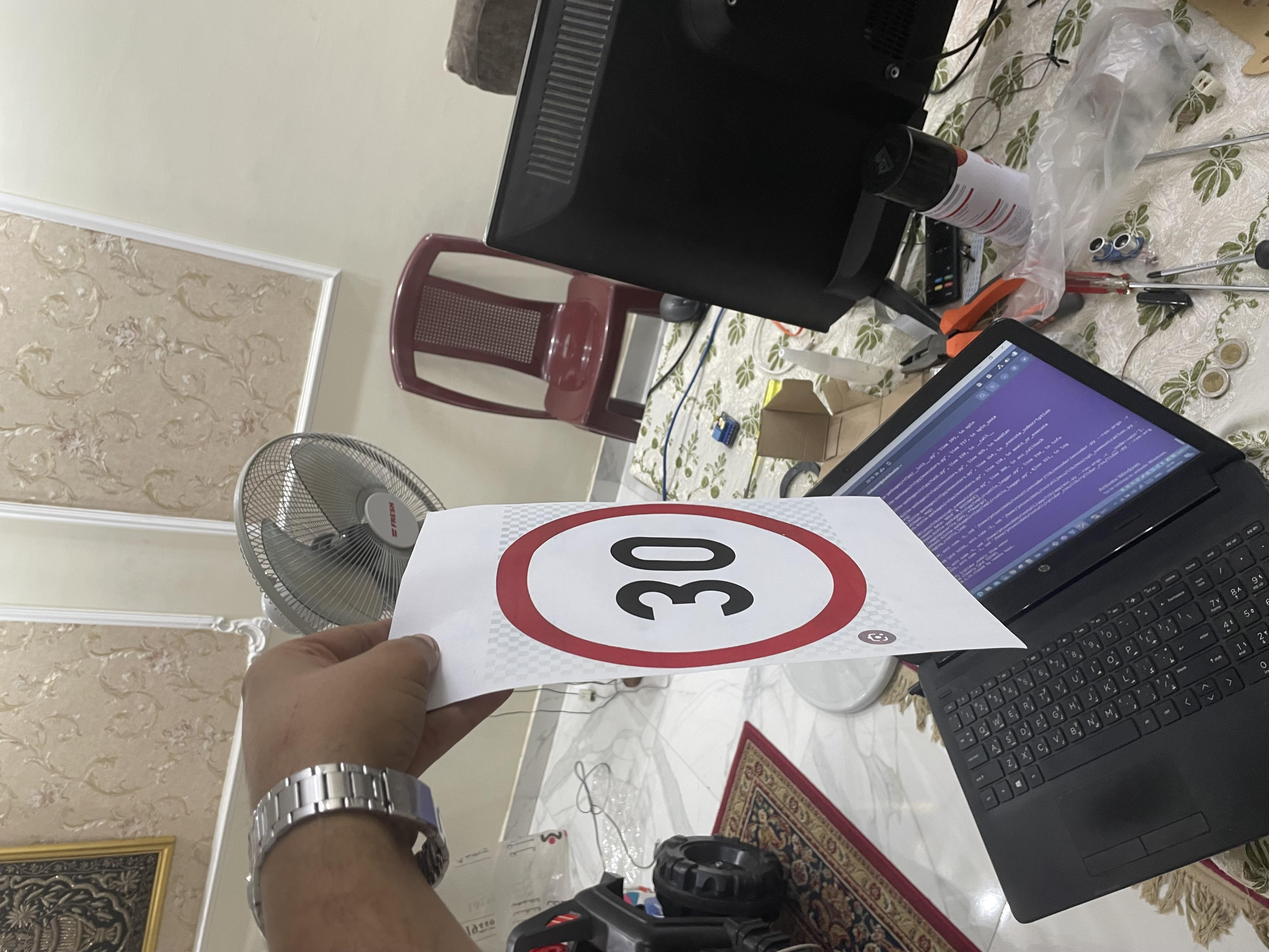30-speed: (395, 362, 610, 649)
